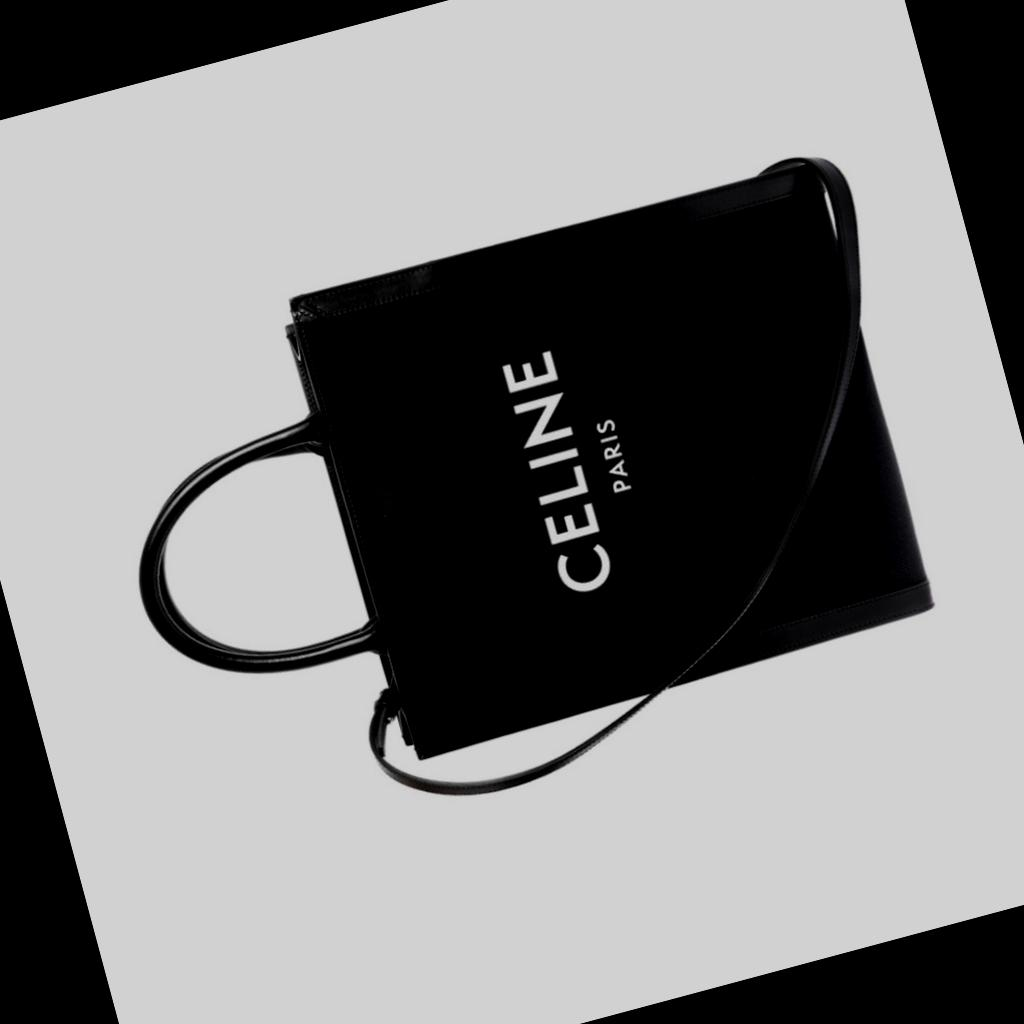CELINE: (500, 346, 618, 600)
